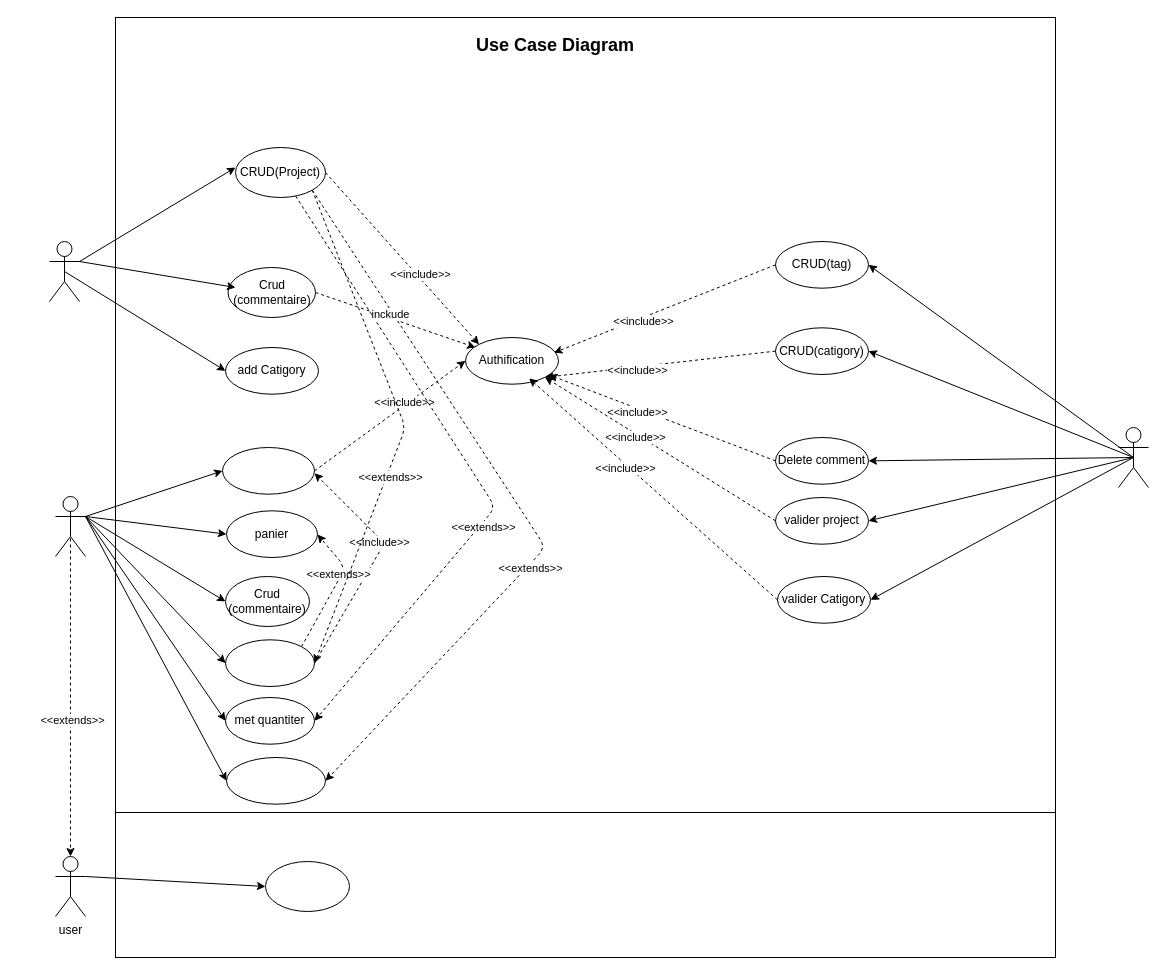
Image size: 1170x975. Some labels were removed from this diagram. Each missing label, with the centre of its shape:
"add project to panier" goes at pixel 269 662.
"ADMIN" goes at pixel 1133 457.
"Check-out (invister)" goes at pixel 268 470.
"client" goes at pixel 70 526.
"Porteur de project" goes at pixel 64 271.
"remove project from panier" goes at pixel 276 780.
"visiter" goes at pixel 307 886.
